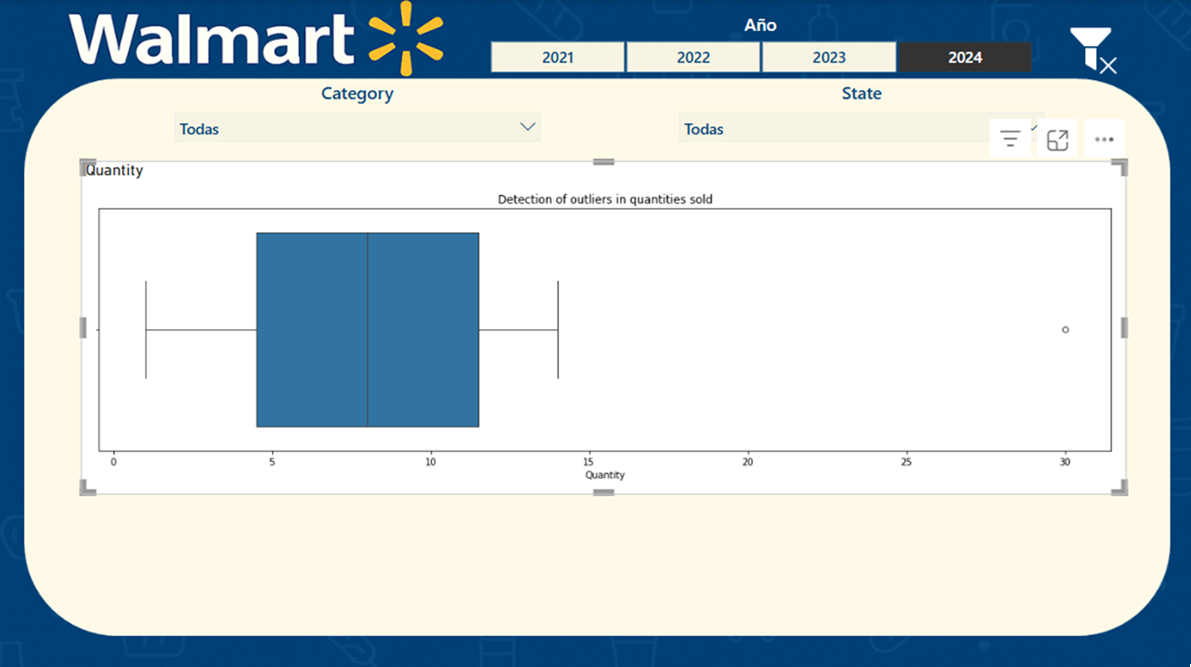

The dashboard page shown, as its layout file describes it:
{"tool":"powerbi","page":{"name":"Insight Outliers","canvas":[1280,720],"ordinal":4},"visuals":[{"type":"slicer","title":"Año","fields":{"Values":["BASE WM.Year"]},"box":[502.4,11.9,626.3,73],"z":0},{"type":"slicer","title":"Category","fields":{"Values":["BASE WM.Category"]},"box":[179.5,85.7,408,87.7],"z":2000},{"type":"slicer","title":"State","fields":{"Values":["BASE WM.City"]},"box":[720,85.7,408,87.7],"z":3000},{"type":"image","box":[1140.5,25.5,62.8,59.4],"z":4000},{"type":"pythonVisual","fields":{"Values":["BASE WM.Quantity"]},"box":[86,174,1120,358],"z":5000}]}

Visuals, with their boxes in screenshot pixels (x1, y1, x2, y2), scaled from the page's 1280x720 canvas onto the 1191x667 screenshot:
"Año" slicer: (467, 11, 1050, 79)
"Category" slicer: (167, 79, 547, 161)
"State" slicer: (670, 79, 1050, 161)
image: (1061, 24, 1120, 79)
pythonVisual - BASE WM.Quantity: (80, 161, 1122, 493)
